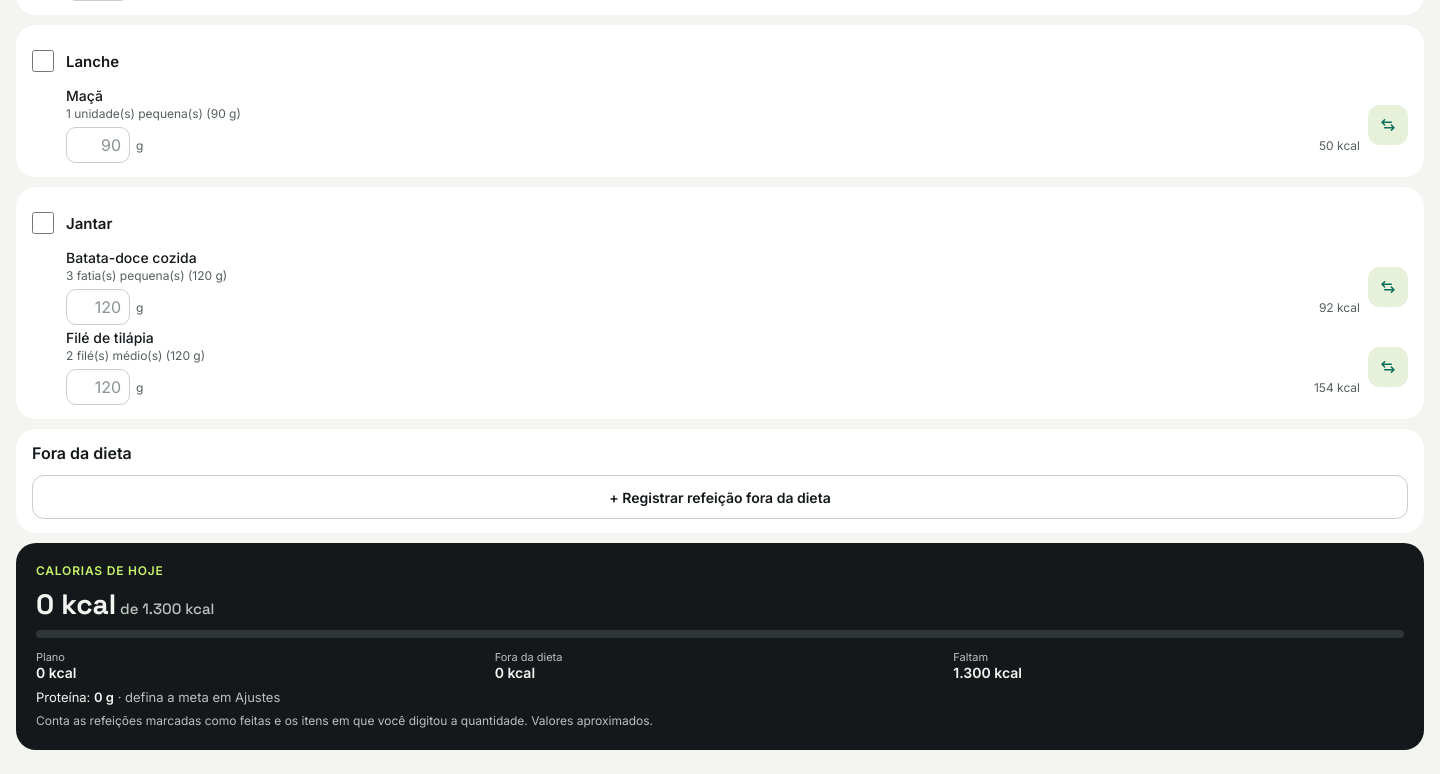
Scenario: Calorias do dia › os alimentos já usados fora da dieta aparecem primeiro
(page scrolled)
Click the button "+ Registrar refeição fora da dieta" at (720, 497), box 32,475 -> 1408,519
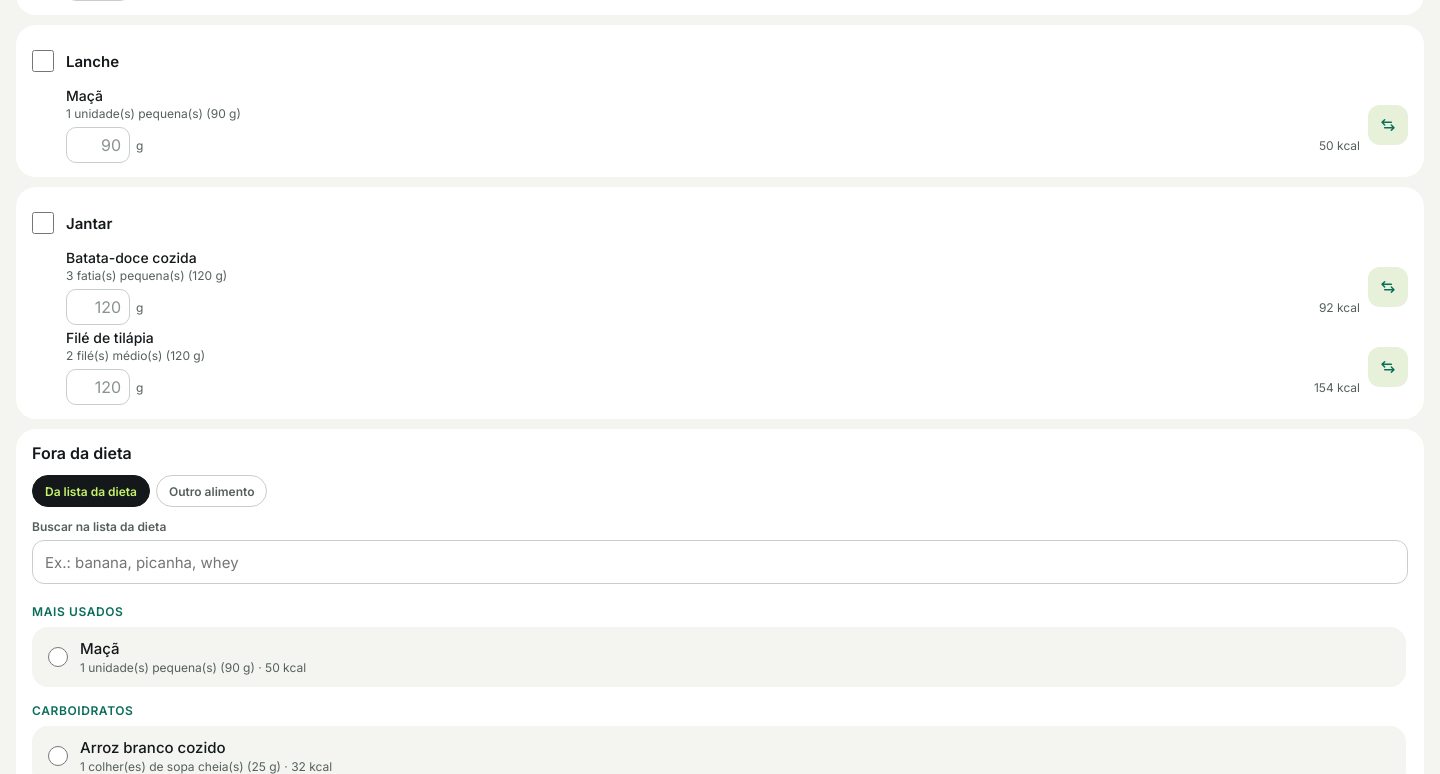
Expected: the text with class "options__divider" reads "Mais usados", 32,604 -> 124,619
Expected: the text with class "option__name" below "Mais usados" reads "Maçã", 80,639 -> 120,658
